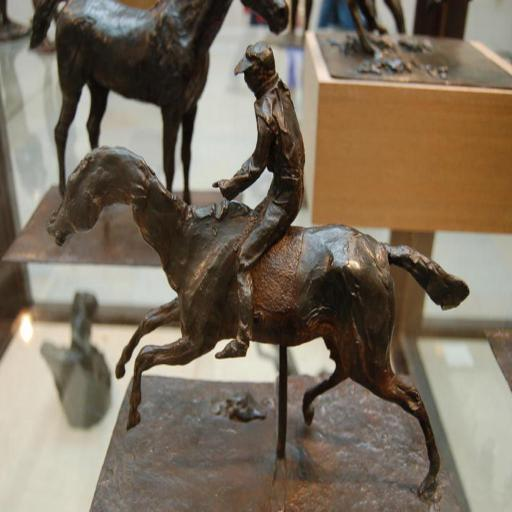horse: (44, 144, 469, 498), (28, 0, 292, 207)
